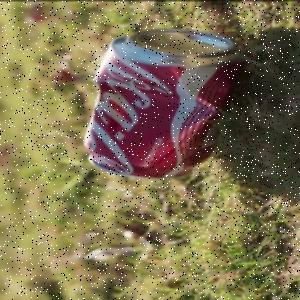Can: (83, 28, 243, 180)
